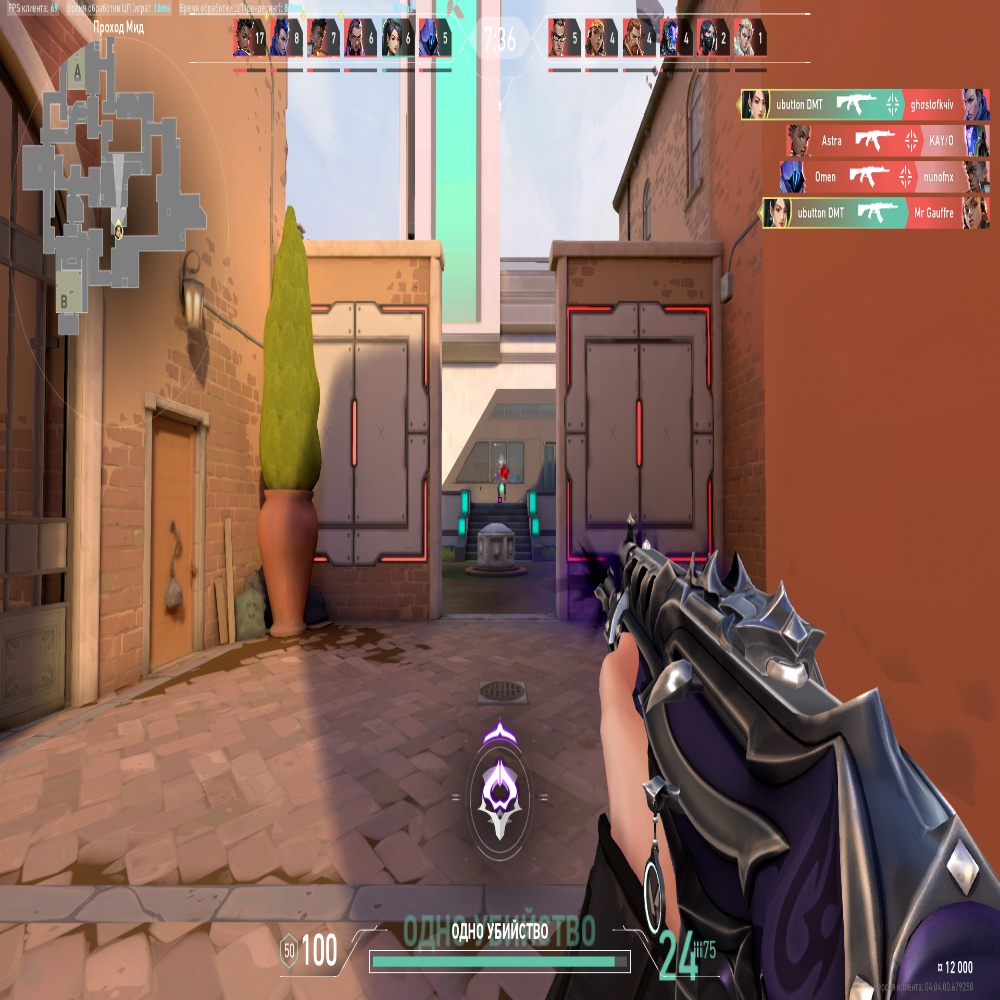body: (497, 470, 505, 482)
head: (499, 462, 502, 468)
